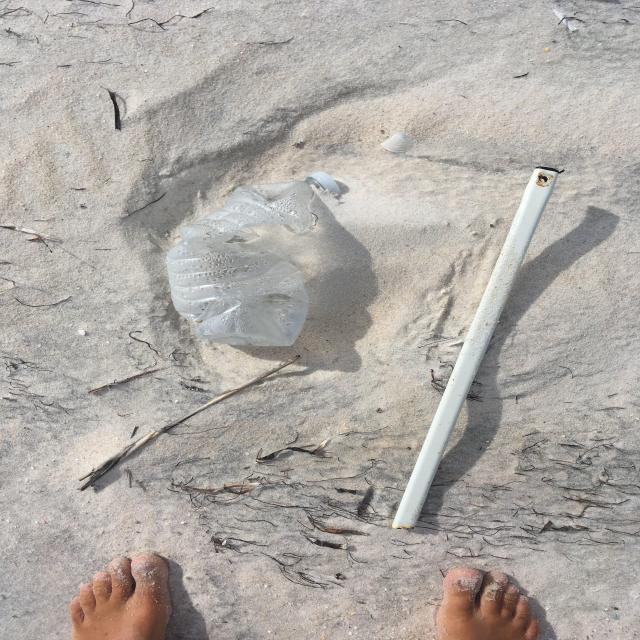litter: (366, 156, 591, 561), (155, 163, 362, 364)
